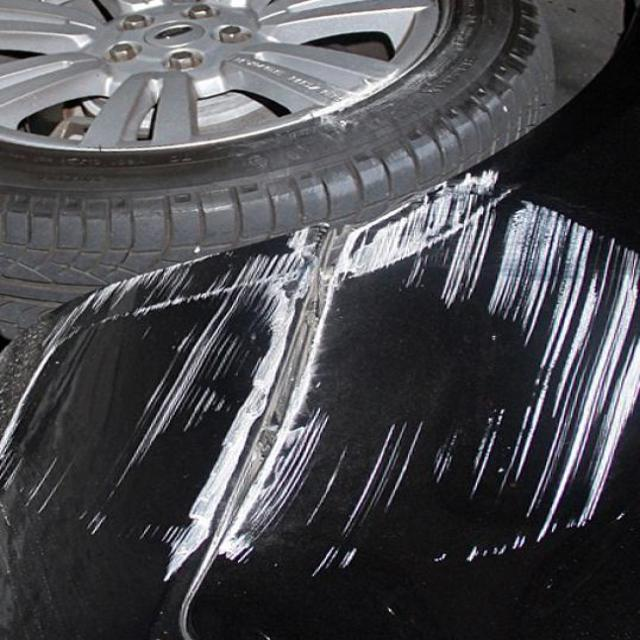scratch: (3, 168, 636, 593)
